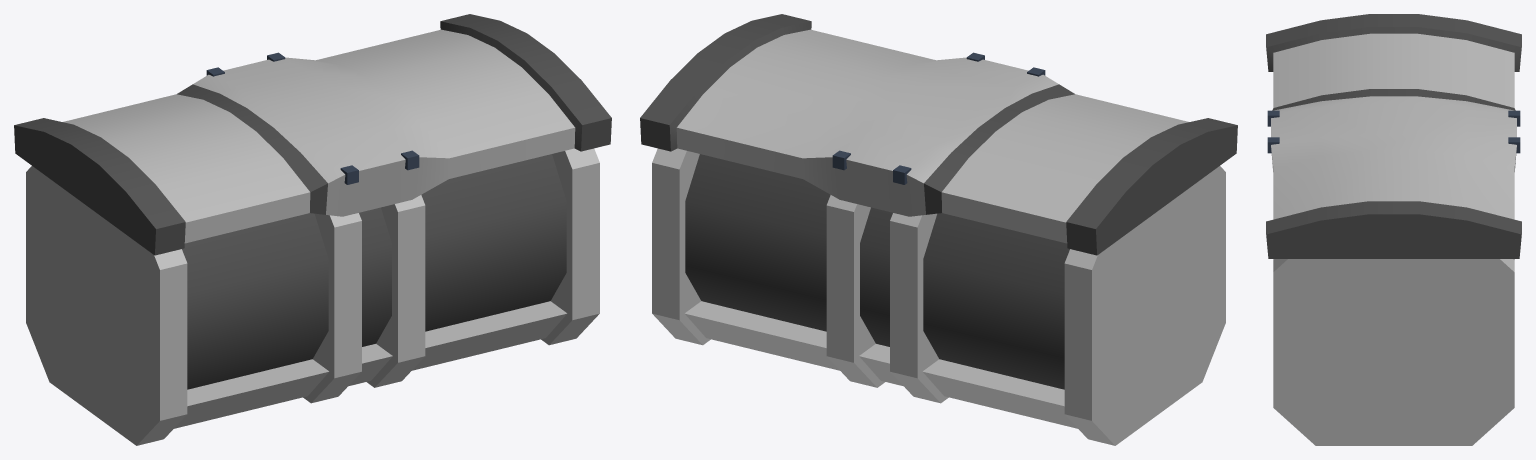
The model's file is Post2.fbx.
The picture shows the model from 3 angles, left to right: view 1: azimuth 30°, elevation 25°; view 2: azimuth 150°, elevation 25°; view 3: azimuth 270°, elevation 25°; orthographic projection. The views are drawn at different scales.
Visible parts, largest first — view 1: pCube2; view 2: pCube2; view 3: pCube2.
Boxes of the visible parts, left/top/right/bottom form: pCube2: left=14, top=14, right=611, bottom=445; pCube2: left=640, top=14, right=1237, bottom=445; pCube2: left=1266, top=14, right=1521, bottom=445.
Size of the model in its own units: 1.97 by 1.08 by 1.06.
